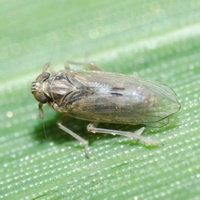insect: (31, 61, 180, 126)
